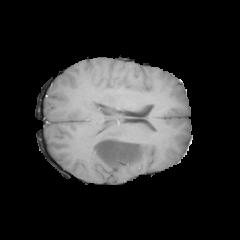glioma: (90, 78, 152, 171)
